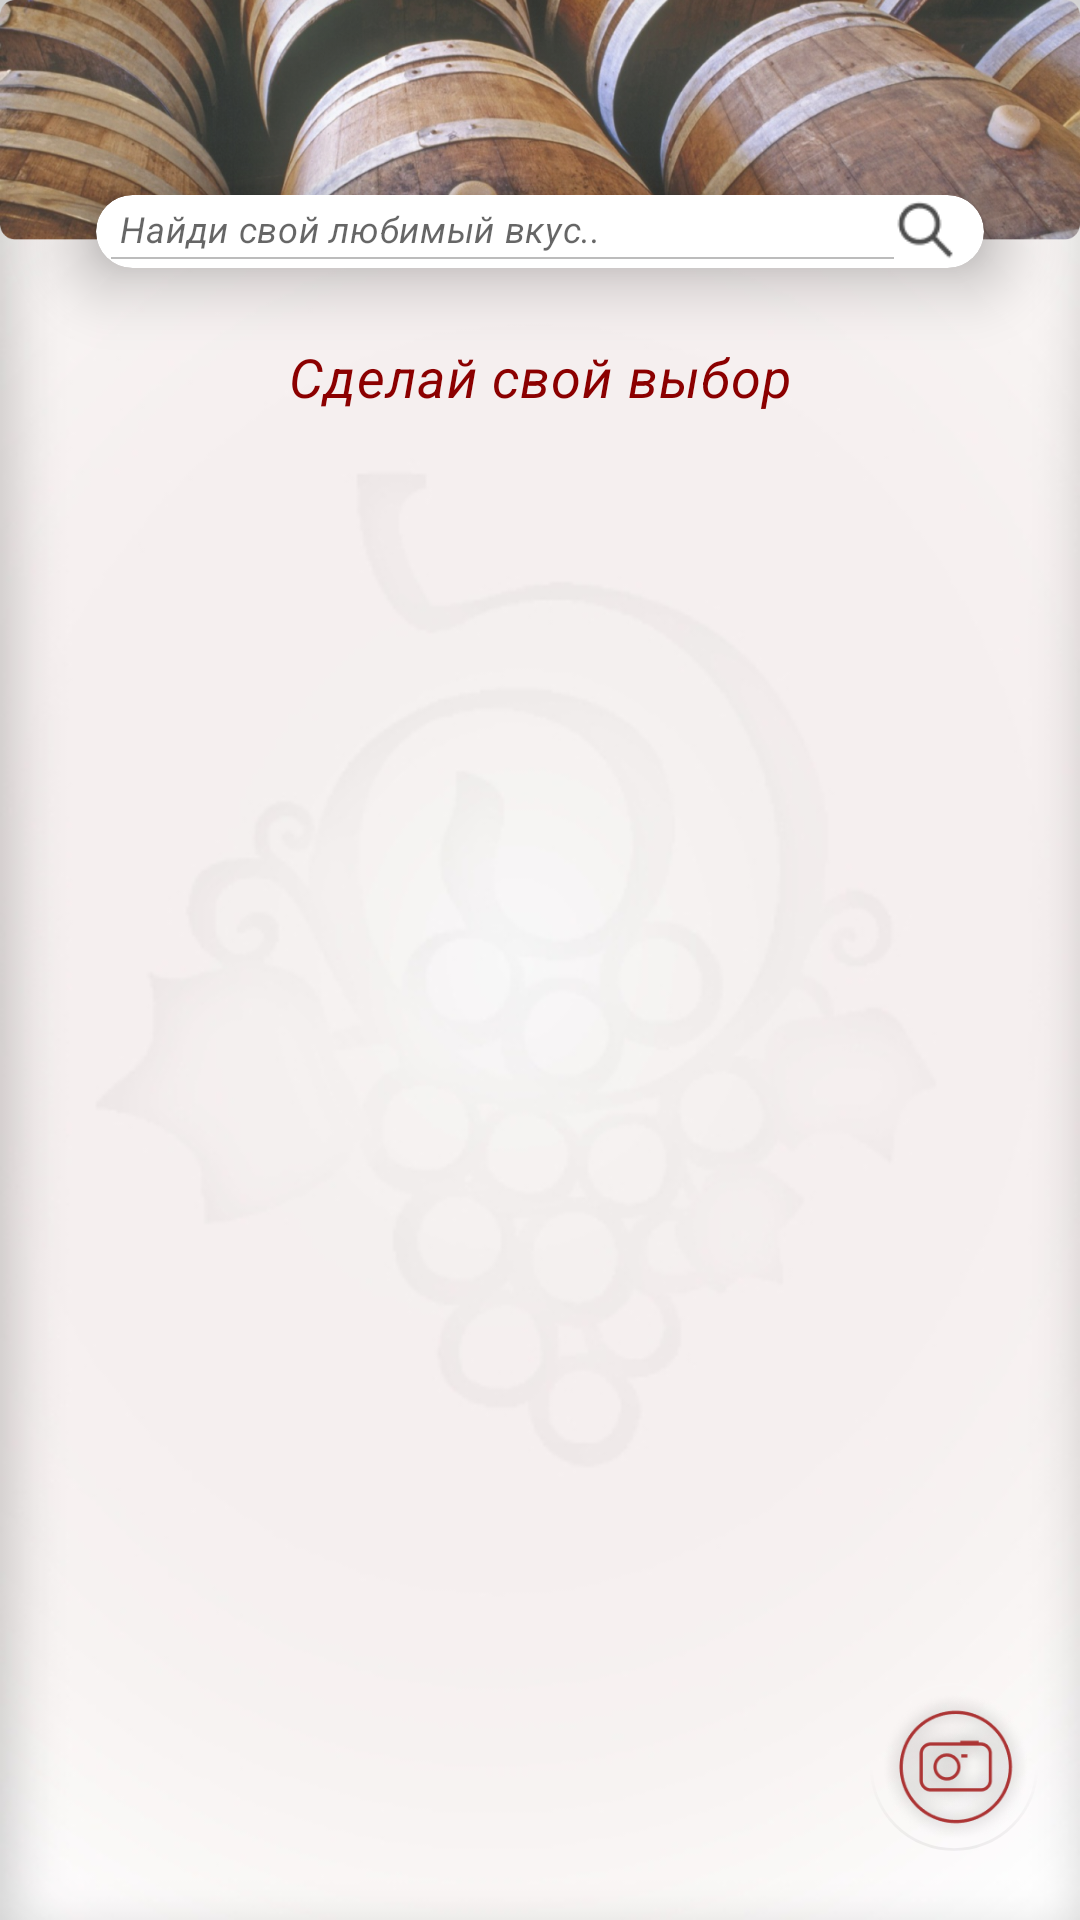

Icons on this 1080w x 1920h Android screen, each with its box as {"left": x1, "top": y1, "right": x2, "bottom": y2}:
scan: {"left": 899, "top": 1710, "right": 1013, "bottom": 1824}
search: {"left": 897, "top": 202, "right": 953, "bottom": 258}
